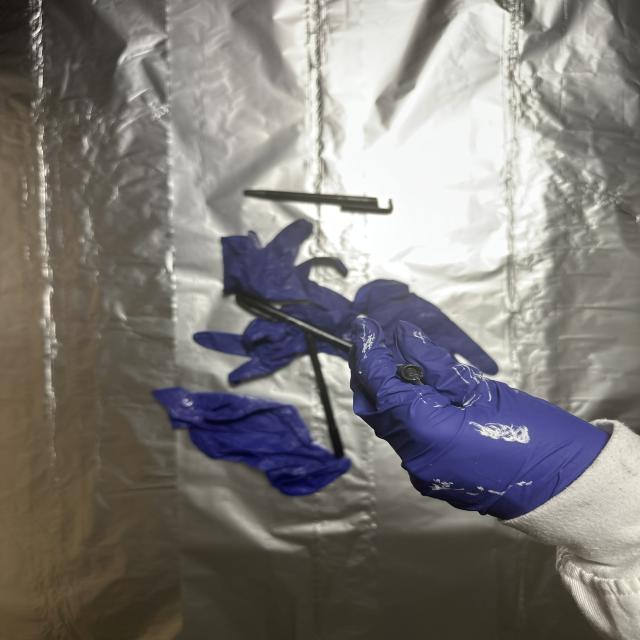gloves_contaminated: (350, 318, 609, 520)
